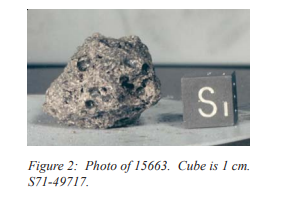Basalt: (47, 35, 156, 127)
